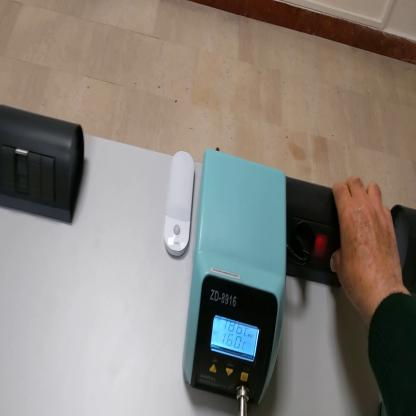hand: (330, 175, 405, 317)
socket: (288, 178, 347, 290), (392, 201, 416, 297)
welder station: (183, 149, 289, 407)
